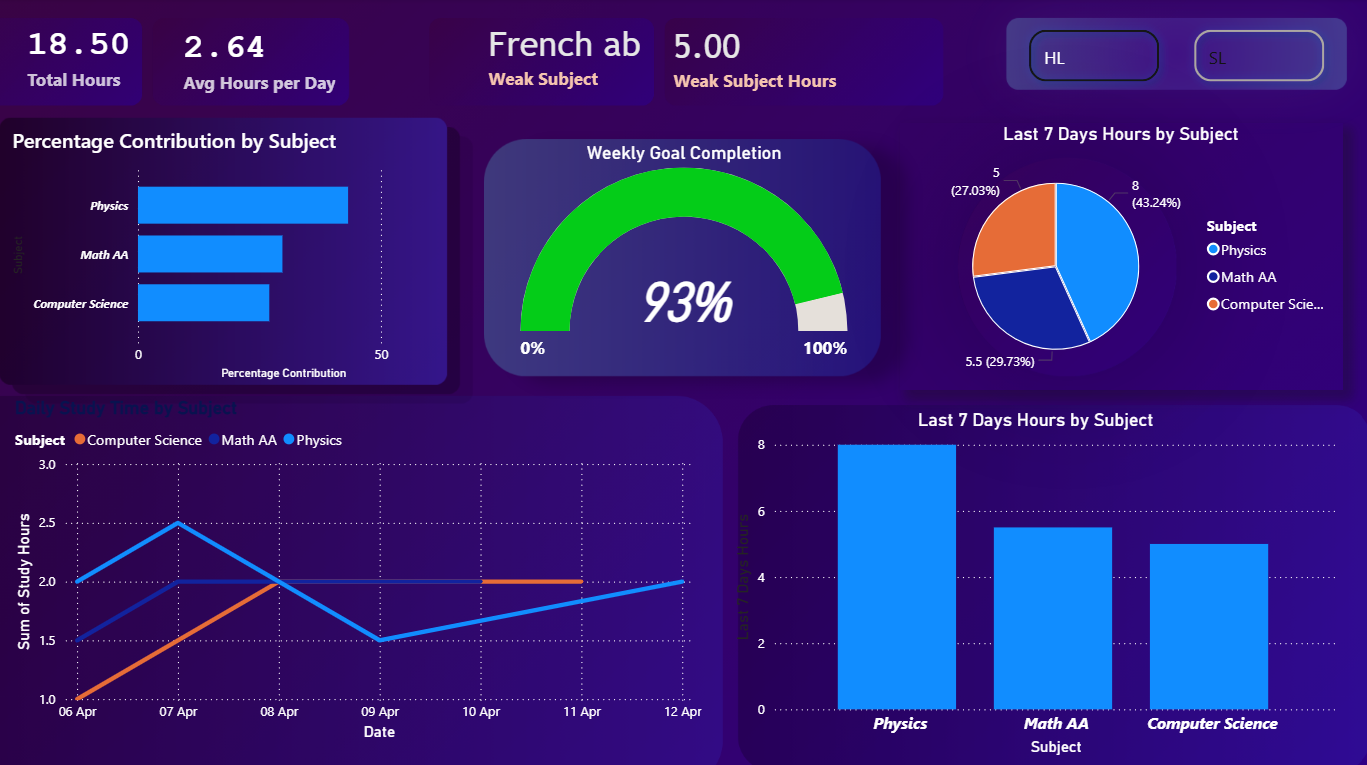

The page's visual inventory and layout, read from the dashboard file:
{"tool":"powerbi","page":{"name":"Page 1","canvas":[1280,720],"ordinal":0},"visuals":[{"type":"lineChart","title":"Daily Study Time by Subject","fields":{"Y":["Sum(StudyData.Study Hours)"],"Series":["StudyData.Subject"],"Category":["StudyData.Date"]},"box":[12.5,371.2,648.8,325],"z":0},{"type":"pieChart","fields":{"Category":["StudyData.Subject"],"Y":["StudyData.Last 7 Days Hours"]},"box":[840.7,116.3,411.6,247.7],"z":1000},{"type":"advancedSlicerVisual","fields":{"Values":["StudyData.Level"]},"box":[944.3,12.9,308.6,82.9],"z":2000},{"type":"cardVisual","title":"Total Hours","fields":{"Data":["StudyData.Total Hours"]},"box":[0,3.8,160,105],"z":3000},{"type":"cardVisual","fields":{"Data":["StudyData.Avg Hours per Day"]},"box":[145.3,7,201.2,103.5],"z":4000},{"type":"gauge","title":"Weekly Goal Completion","fields":{"Y":["StudyData.Goal %"]},"box":[474.3,134.3,331.4,212.9],"z":5000},{"type":"cardVisual","fields":{"Data":["StudyData.Weak Subject"]},"box":[429.1,0,201.2,109.3],"z":6000},{"type":"cardVisual","fields":{"Data":["StudyData.Weak Subject Hours"]},"box":[601.2,5.8,305.8,100],"z":7000},{"type":"clusteredBarChart","fields":{"Category":["StudyData.Subject"],"Y":["StudyData.Percentage Contribution"]},"box":[11,120,405,240],"z":8000},{"type":"clusteredColumnChart","fields":{"Category":["StudyData.Subject"],"Y":["StudyData.Last 7 Days Hours"]},"box":[681.4,382.9,571.4,327.1],"z":9000}]}

Visuals, with their boxes in screenshot pixels (x1, y1, x2, y2), scaled from the page's 1280x720 canvas onto the 1367x765 screenshot:
"Daily Study Time by Subject" lineChart: box(13, 394, 706, 740)
pieChart - StudyData.Subject x StudyData.Last 7 Days Hours: box(898, 124, 1337, 387)
advancedSlicerVisual - StudyData.Level: box(1008, 14, 1338, 102)
"Total Hours" cardVisual: box(0, 4, 171, 116)
cardVisual - StudyData.Avg Hours per Day: box(155, 7, 370, 117)
"Weekly Goal Completion" gauge: box(507, 143, 860, 369)
cardVisual - StudyData.Weak Subject: box(458, 0, 673, 116)
cardVisual - StudyData.Weak Subject Hours: box(642, 6, 969, 112)
clusteredBarChart - StudyData.Subject x StudyData.Percentage Contribution: box(12, 128, 444, 382)
clusteredColumnChart - StudyData.Subject x StudyData.Last 7 Days Hours: box(728, 407, 1338, 754)
